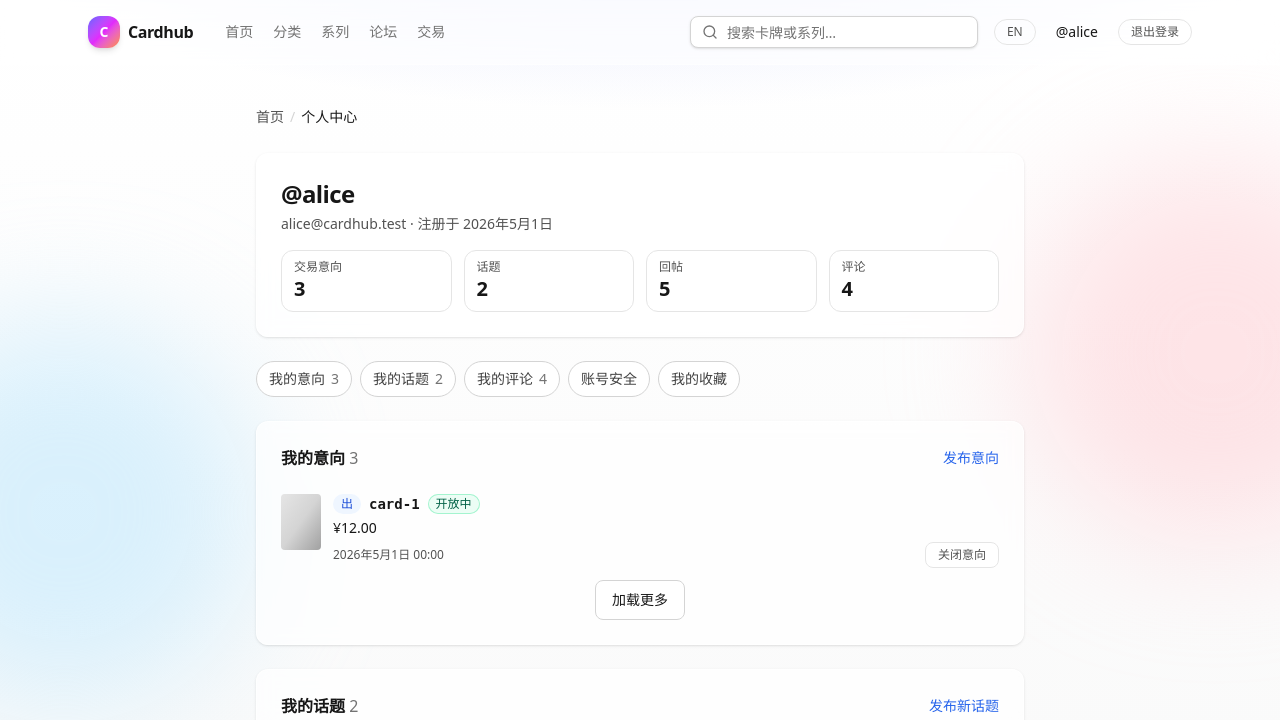
Test: MePage › focuses the first newly loaded row when the final page is loaded
The width and height of the screenshot is (1280, 720).
Click the button "加载更多" at coordinates (640, 600), box x1=595 y1=580 x2=685 y2=620
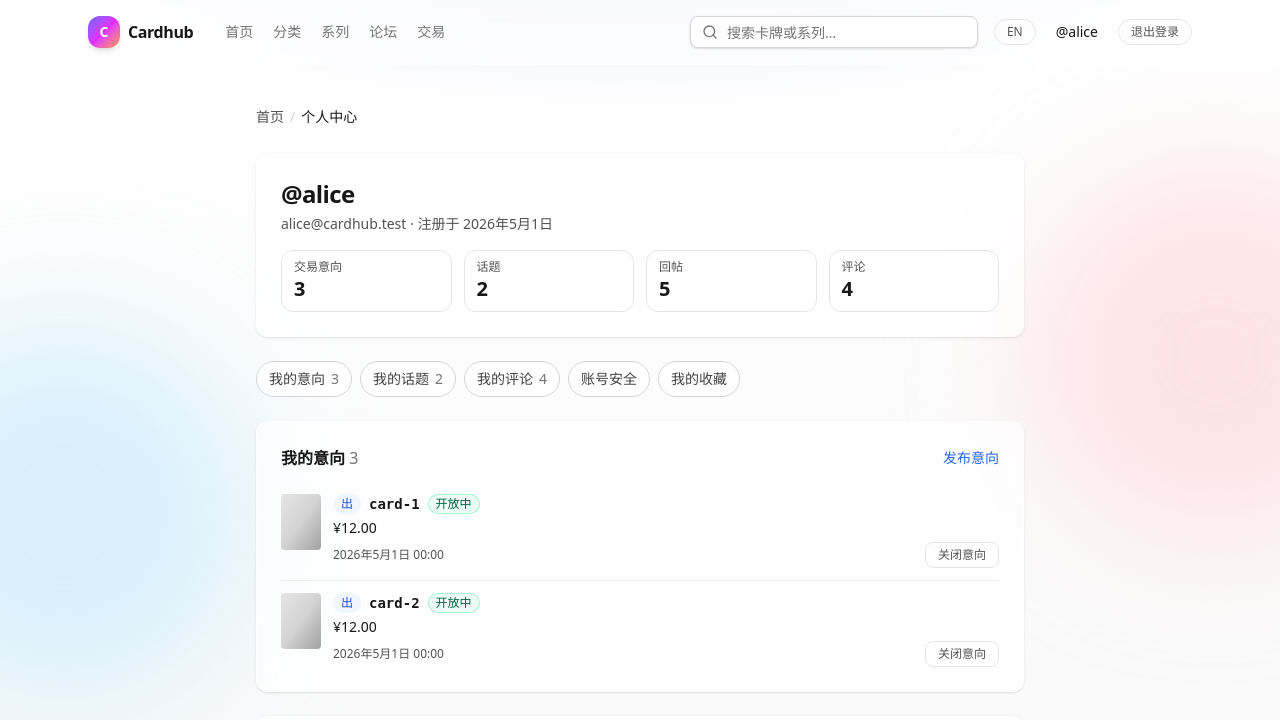
Result: the link "card-2" is shown at x1=369 y1=593 x2=420 y2=613
